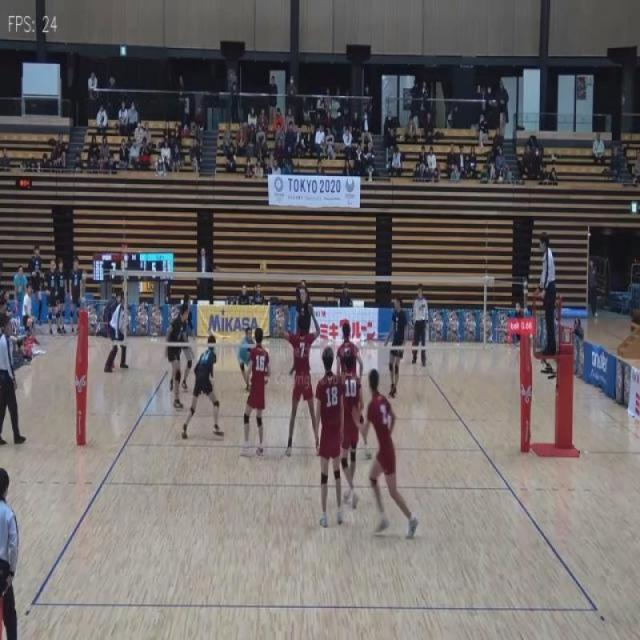volleyball: (260, 262, 268, 272)
